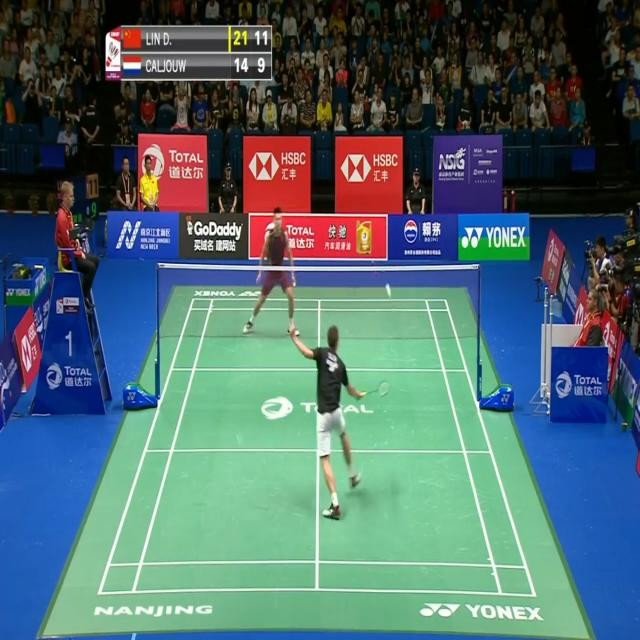Player1: (282, 310, 394, 526)
Player2: (236, 194, 304, 348)
